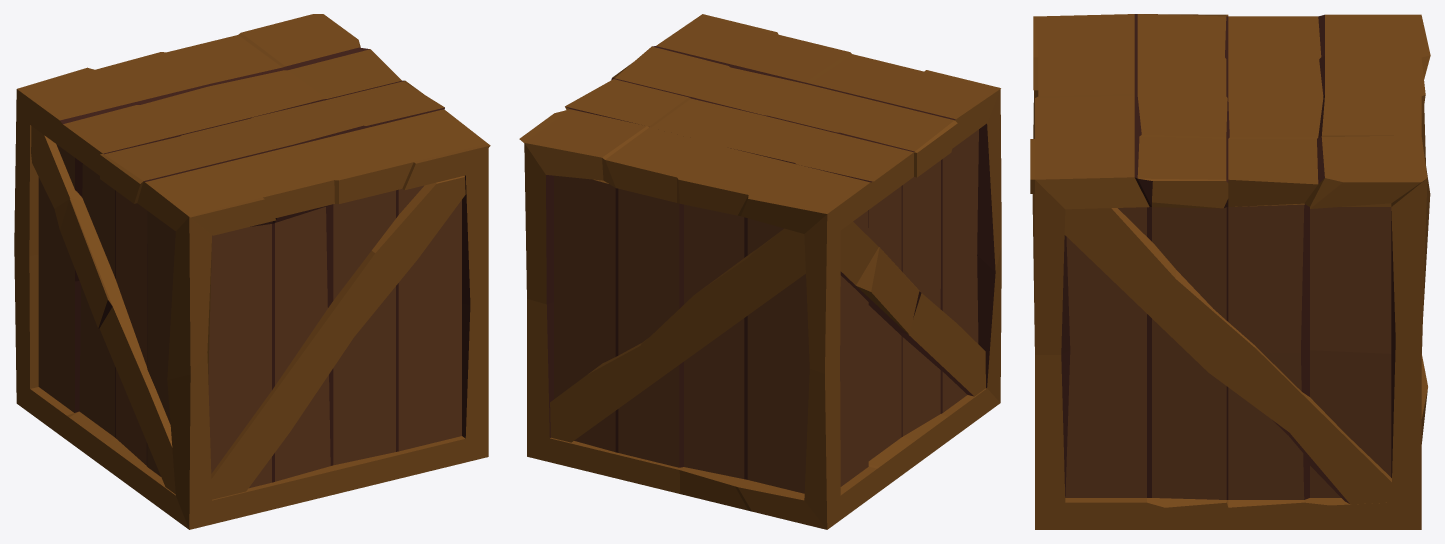
The model's file is cAIXA.fbx.
3 renders of one model, left to right at view 1: azimuth 30°, elevation 25°; view 2: azimuth 150°, elevation 25°; view 3: azimuth 270°, elevation 25°, orthographic. The views are drawn at different scales.
Parts seen in each view (by area): view 1: Cube.004; view 2: Cube.004; view 3: Cube.004.
Part boxes in pixels (<box>): Cube.004: <box>14,14,490,529</box>; Cube.004: <box>519,14,1001,529</box>; Cube.004: <box>1030,14,1430,529</box>.
Bounding box in the file's own units: 211 × 202 × 207.
